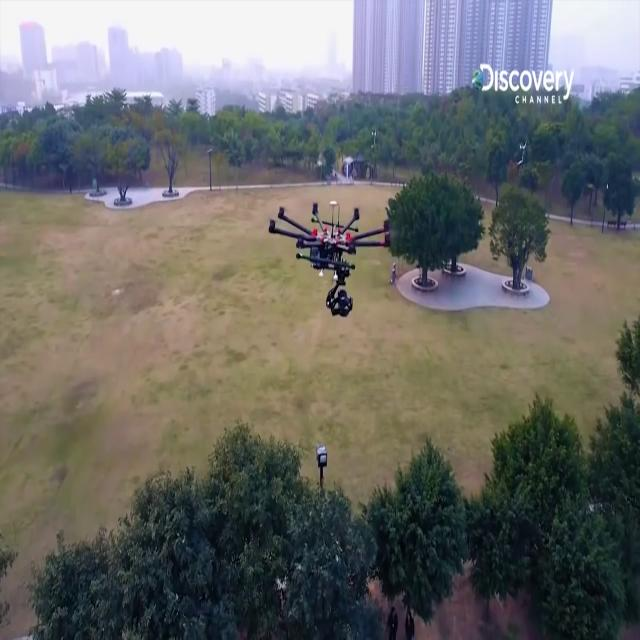drone: (256, 181, 398, 323)
